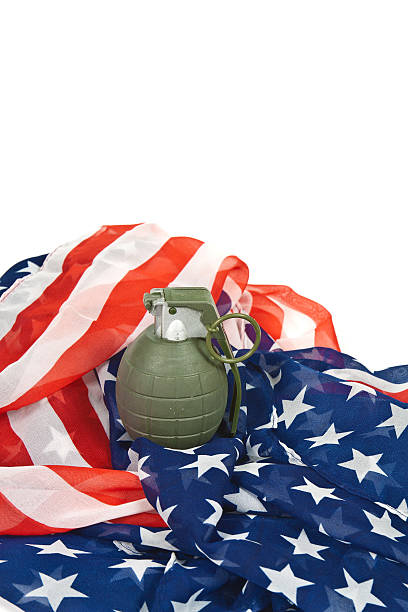e1: (112, 283, 264, 447)
